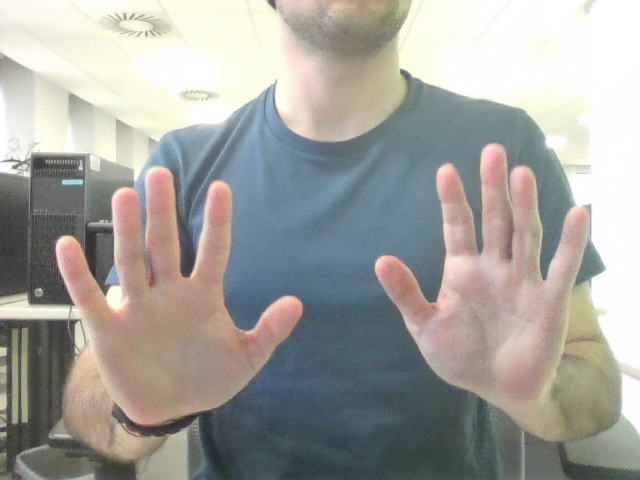Manos Arriba: (93, 167, 552, 376)
